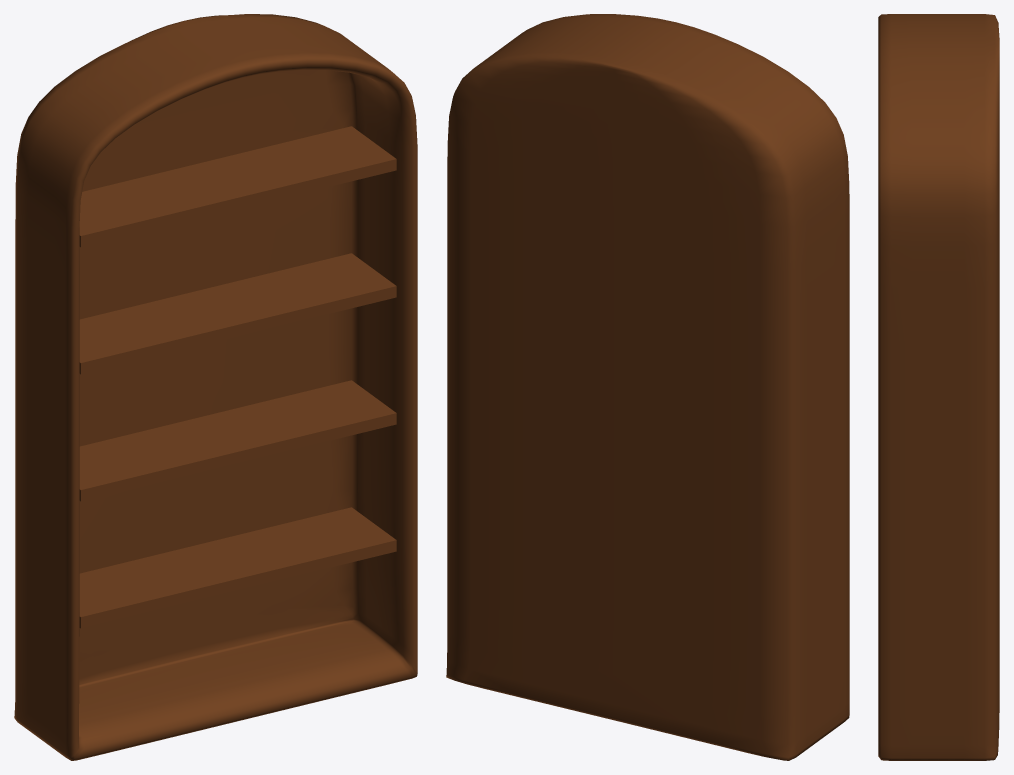
Rendered from Shelves.fbx.
3 renders of one model, left to right at view 1: azimuth 30°, elevation 25°; view 2: azimuth 150°, elevation 25°; view 3: azimuth 270°, elevation 25°, orthographic. The views are drawn at different scales.
Visible parts, largest first — view 1: Shelves; view 2: Shelves; view 3: Shelves.
Part boxes in pixels (x1,y1,x2,y2): Shelves: (14, 14, 417, 760); Shelves: (446, 14, 849, 760); Shelves: (878, 14, 999, 760).
Bounding box in the file's own units: 99.3 × 179 × 31.04.
